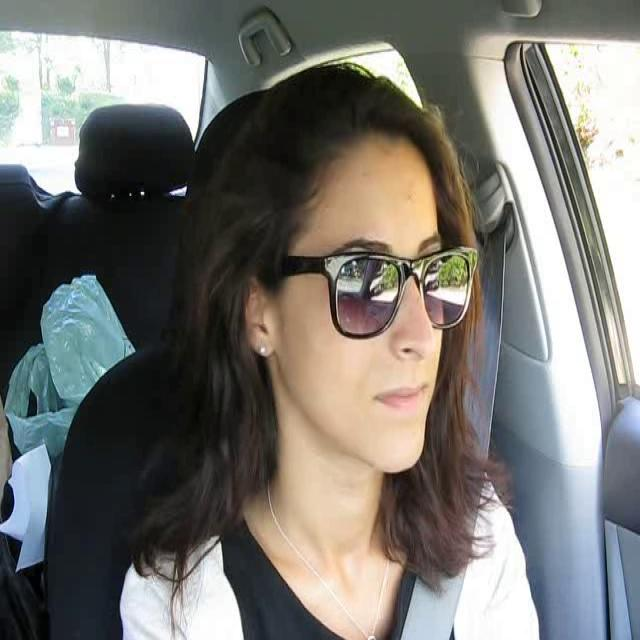close: (370, 375, 431, 417)
